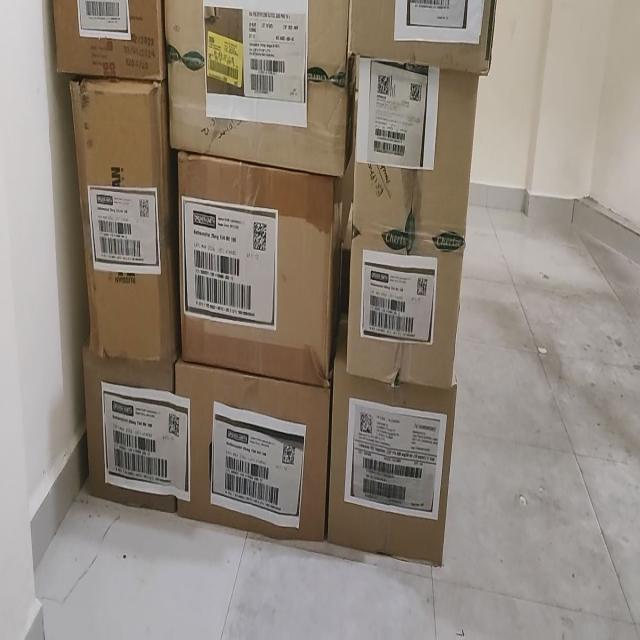BoxFace: (341, 51, 482, 388), (176, 149, 340, 385), (165, 0, 352, 177), (67, 77, 177, 366), (174, 354, 330, 542), (328, 347, 457, 572), (81, 342, 191, 512), (347, 0, 497, 76), (51, 0, 165, 81)
